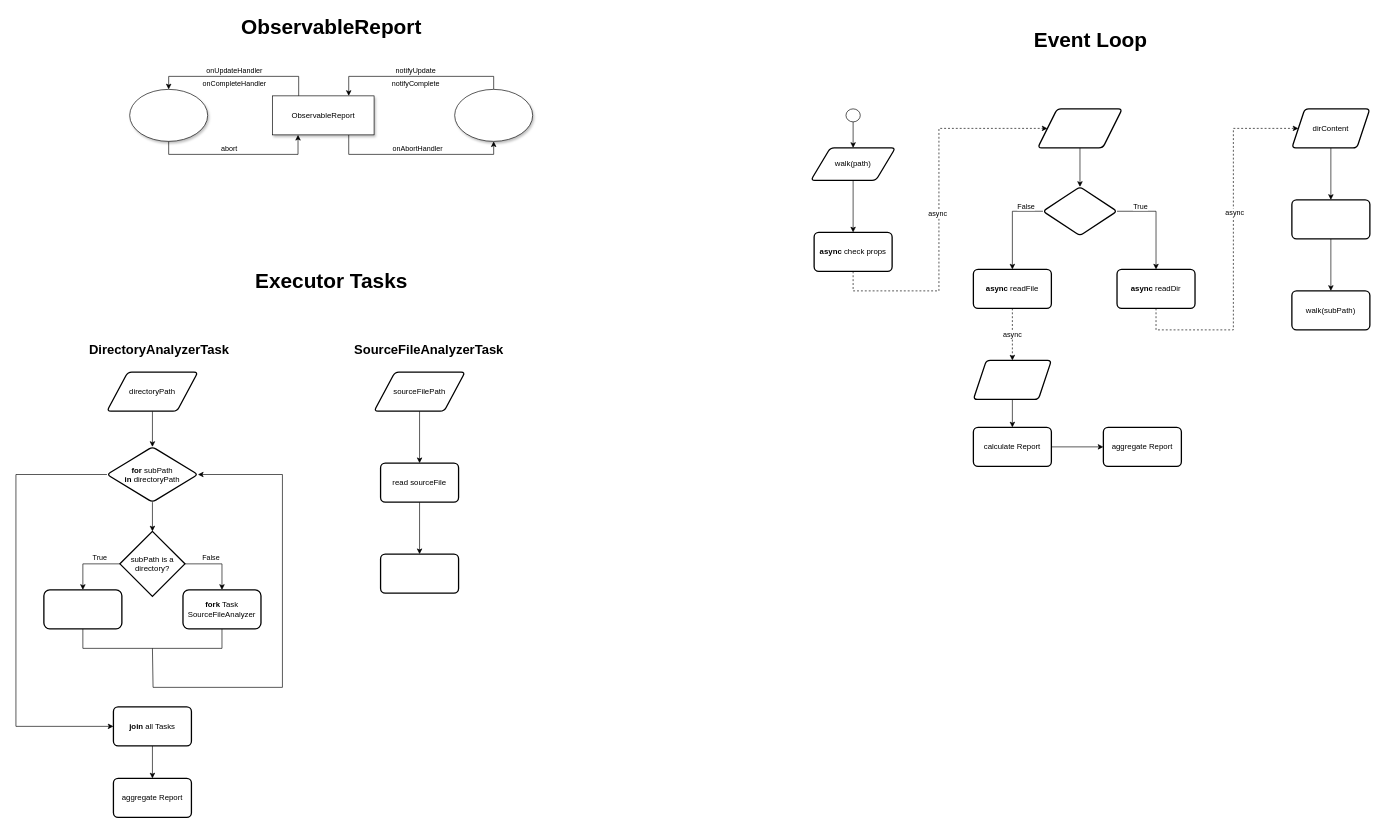
The diagram is 1382 pixels wide and 829 high, and some of its shapes have lost their labels. The shapes that lost their labels are listed below. From the top down, each one's centre as x and y in pixels, then its label:
At point 169,116: "GUI".
At point 494,116: "SourceAnalyzer".
At point 1080,128: "props".
At point 1079,211: "is a Directory?".
At point 1330,219: "for subPath in dirContent".
At point 1012,379: "fileContent".
At point 419,573: "create Report".
At point 82,609: "fork Task DirectoryAnalyzer".
